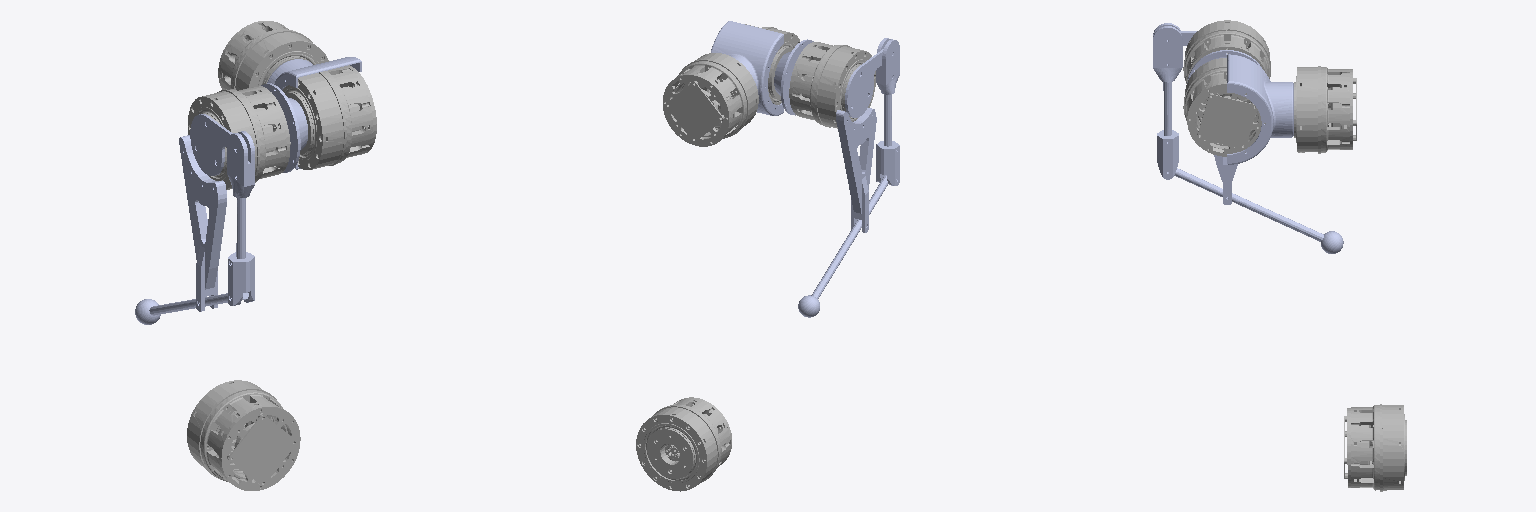
URDF robot description (titanleg):
<?xml version="1.0" encoding="utf-8"?>
<robot
  name="titanleg" xmlns:xacro="http://ros.org/wiki/xacro">
  <link name="world" />
  <link
    name="base_link_stand">
    <inertial>
      <origin
        xyz="2.21389571031239E-06 0.0495282516972576 8.39857004455852E-05"
        rpy="0 0 0" />
      <mass
        value="0.459454762759501" />
      <inertia
        ixx="0.000423377170076193"
        ixy="2.8536168918093E-09"
        ixz="1.66725551719757E-07"
        iyy="0.000785413648057675"
        iyz="6.36782987510134E-07"
        izz="0.000423371017574567" />
    </inertial>
    <visual>
      <origin
        xyz="0 0 0"
        rpy="0 0 0" />
      <geometry>
        <mesh
          filename="package://titanleg_gazebo/meshes/Slider_design/hip_act.STL" />
      </geometry>
      <material
        name="">
        <color
          rgba="0.752941176470588 0.752941176470588 0.752941176470588 1" />
      </material>
    </visual>
    <collision>
      <origin
        xyz="0 0 0"
        rpy="0 0 0" />
      <geometry>
        <mesh
          filename="package://titanleg_gazebo/meshes/Slider_design/hip_act.STL" />
      </geometry>
    </collision>
  </link>
   <joint name="dummy_joint" type="fixed">
     <parent link="world"/>
     <child link="base_link_stand"/>
   </joint>
  <!-- <link
    name="base_link_stand">
    <inertial>
      <origin
        xyz="6.10622663543836E-16 0.000186556359450196 0.177272743445134"
        rpy="0 0 0" />
      <mass
        value="2.59347516998776" />
      <inertia
        ixx="0.122430377729961"
        ixy="-6.64879419839934E-17"
        ixz="-1.79469805425288E-16"
        iyy="0.183325511805914"
        iyz="-0.000156144898123056"
        izz="0.073945978938047" />
    </inertial>
    <visual>
      <origin
        xyz="0 0 0"
        rpy="0 0 0" />
      <geometry>
        <mesh
          filename="package://titanleg_gazebo/meshes/slider_design/base_link_stand.STL" />
      </geometry>
      <material
        name="">
        <color
          rgba="0.792156862745098 0.819607843137255 0.933333333333333 1" />
      </material>
    </visual>
    <collision>
      <origin
        xyz="0 0 0"
        rpy="0 0 0" />
      <geometry>
        <mesh
          filename="package://titanleg_gazebo/meshes/slider_design/base_link_stand.STL" />
      </geometry>
    </collision>
  </link> -->
  <link
    name="hip_act">
    <inertial>
      <origin
        xyz="3.32114702053521E-06 -0.0315283228576752 0.499999356474945"
        rpy="0 0 0" />
      <mass
        value="0.459454763928287" />
      <inertia
        ixx="0.000423368997531344"
        ixy="3.15207899133932E-09"
        ixz="1.66528842531295E-07"
        iyy="0.000785414768163331"
        iyz="3.20271247011331E-09"
        izz="0.000423378070299278" />
    </inertial>
    <visual>
      <origin
        xyz="0 0 0"
        rpy="0 0 0" />
      <geometry>
        <mesh
          filename="package://titanleg_gazebo/meshes/slider_design/hip_act.STL" />
      </geometry>
      <material
        name="">
        <color
          rgba="0.752941176470588 0.752941176470588 0.752941176470588 1" />
      </material>
    </visual>
    <collision>
      <origin
        xyz="0 0 0"
        rpy="0 0 0" />
      <geometry>
        <mesh
          filename="package://titanleg_gazebo/meshes/slider_design/hip_act.STL" />
      </geometry>
    </collision>
  </link>
  <joint
    name="stand_hip"
    type="fixed">
    <origin
      xyz="0 0 0"
      rpy="0 0 0" />
    <parent
      link="base_link_stand" />
    <child
      link="hip_act" />
    <axis
      xyz="0 0 0" />
  </joint>
  <link
    name="c_bracket">
    <inertial>
      <origin
        xyz="1.29531010331363E-05 -0.0938839573426781 0.499993336202208"
        rpy="0 0 0" />
      <mass
        value="0.1941398277098" />
      <inertia
        ixx="0.000246157573305319"
        ixy="3.72184232659441E-08"
        ixz="1.78676211476882E-09"
        iyy="0.000261155018400834"
        iyz="-1.04515996147018E-08"
        izz="0.000187909216337472" />
    </inertial>
    <visual>
      <origin
        xyz="0 0 0"
        rpy="0 0 0" />
      <geometry>
        <mesh
          filename="package://titanleg_gazebo/meshes/slider_design/c_bracket.STL" />
      </geometry>
      <material
        name="">
        <color
          rgba="0.792156862745098 0.819607843137255 0.933333333333333 1" />
      </material>
    </visual>
    <collision>
      <origin
        xyz="0 0 0"
        rpy="0 0 0" />
      <geometry>
        <mesh
          filename="package://titanleg_gazebo/meshes/slider_design/c_bracket.STL" />
      </geometry>
    </collision>
  </link>
  <joint
    name="hip_a_c_b"
    type="revolute">
    <origin
      xyz="0 0 0"
      rpy="0 0 0" />
    <parent
      link="hip_act" />
    <child
      link="c_bracket" />
    <axis
      xyz="0 -1 0" />
    <limit
      lower="0"
      upper="0"
      effort="0"
      velocity="0" />
  </joint>
  <link
    name="knee_act">
    <inertial>
      <origin
        xyz="-0.0105283228433629 -0.155996467737714 0.499999801595569"
        rpy="0 0 0" />
      <mass
        value="0.459454763368948" />
      <inertia
        ixx="0.000785414768124536"
        ixy="-1.20110195093395E-09"
        ixz="-4.18264847211513E-09"
        iyy="0.000423231039952221"
        iyz="8.59167594152018E-08"
        izz="0.000423516027817846" />
    </inertial>
    <visual>
      <origin
        xyz="0 0 0"
        rpy="0 0 0" />
      <geometry>
        <mesh
          filename="package://titanleg_gazebo/meshes/slider_design/knee_act.STL" />
      </geometry>
      <material
        name="">
        <color
          rgba="0.752941176470588 0.752941176470588 0.752941176470588 1" />
      </material>
    </visual>
    <collision>
      <origin
        xyz="0 0 0"
        rpy="0 0 0" />
      <geometry>
        <mesh
          filename="package://titanleg_gazebo/meshes/slider_design/knee_act.STL" />
      </geometry>
    </collision>
  </link>
  <joint
    name="c_knee"
    type="fixed">
    <origin
      xyz="0 0 0"
      rpy="0 0 0" />
    <parent
      link="c_bracket" />
    <child
      link="knee_act" />
    <axis
      xyz="0 0 0" />
    <limit
      lower="0"
      upper="0"
      effort="0"
      velocity="0" />
  </joint>
  <link
    name="connecter">
    <inertial>
      <origin
        xyz="-0.0627092553303077 -0.155999999999995 0.500000000000004"
        rpy="0 0 0" />
      <mass
        value="0.136163779993279" />
      <inertia
        ixx="0.000121813380866596"
        ixy="-1.11126012869145E-19"
        ixz="1.58157595894236E-20"
        iyy="6.99270541952128E-05"
        iyz="-6.81519276561268E-20"
        izz="6.99270541952126E-05" />
    </inertial>
    <visual>
      <origin
        xyz="0 0 0"
        rpy="0 0 0" />
      <geometry>
        <mesh
          filename="package://titanleg_gazebo/meshes/slider_design/connecter.STL" />
      </geometry>
      <material
        name="">
        <color
          rgba="0.792156862745098 0.819607843137255 0.933333333333333 1" />
      </material>
    </visual>
    <collision>
      <origin
        xyz="0 0 0"
        rpy="0 0 0" />
      <geometry>
        <mesh
          filename="package://titanleg_gazebo/meshes/slider_design/connecter.STL" />
      </geometry>
    </collision>
  </link>
  <joint
    name="knact_con"
    type="revolute">
    <origin
      xyz="0 0 0"
      rpy="0 0 0" />
    <parent
      link="knee_act" />
    <child
      link="connecter" />
    <axis
      xyz="-1 0 0" />
    <limit
      lower="0"
      upper="0"
      effort="0"
      velocity="0" />
  </joint>
  <link
    name="slide_act">
    <inertial>
      <origin
        xyz="-0.128528322842186 -0.155997781822786 0.499997296994449"
        rpy="0 0 0" />
      <mass
        value="0.45945476329286" />
      <inertia
        ixx="0.000785414768049983"
        ixy="-3.14528553173294E-09"
        ixz="-3.07860027929629E-09"
        iyy="0.00042337716722205"
        iyz="1.66719355801496E-07"
        izz="0.000423369900477097" />
    </inertial>
    <visual>
      <origin
        xyz="0 0 0"
        rpy="0 0 0" />
      <geometry>
        <mesh
          filename="package://titanleg_gazebo/meshes/slider_design/slide_act.STL" />
      </geometry>
      <material
        name="">
        <color
          rgba="0.752941176470588 0.752941176470588 0.752941176470588 1" />
      </material>
    </visual>
    <collision>
      <origin
        xyz="0 0 0"
        rpy="0 0 0" />
      <geometry>
        <mesh
          filename="package://titanleg_gazebo/meshes/slider_design/slide_act.STL" />
      </geometry>
    </collision>
  </link>
  <joint
    name="con_slact"
    type="fixed">
    <origin
      xyz="0 0 0"
      rpy="0 0 0" />
    <parent
      link="connecter" />
    <child
      link="slide_act" />
    <axis
      xyz="0 0 0" />
  </joint>
  <link
    name="slider_1">
    <inertial>
      <origin
        xyz="-0.165994134887291 -0.168670165667458 0.506409800876571"
        rpy="0 0 0" />
      <mass
        value="0.0227075461559264" />
      <inertia
        ixx="2.96121867175513E-05"
        ixy="-1.68744202738817E-09"
        ixz="8.53672135801245E-10"
        iyy="9.4534331925605E-06"
        iyz="6.03941429902899E-06"
        izz="2.02192166309363E-05" />
    </inertial>
    <visual>
      <origin
        xyz="0 0 0"
        rpy="0 0 0" />
      <geometry>
        <mesh
          filename="package://titanleg_gazebo/meshes/slider_design/slider_1.STL" />
      </geometry>
      <material
        name="">
        <color
          rgba="0.792156862745098 0.819607843137255 0.933333333333333 1" />
      </material>
    </visual>
    <collision>
      <origin
        xyz="0 0 0"
        rpy="0 0 0" />
      <geometry>
        <mesh
          filename="package://titanleg_gazebo/meshes/slider_design/slider_1.STL" />
      </geometry>
    </collision>
  </link>
  <joint
    name="act_sl1"
    type="revolute">
    <origin
      xyz="0 0 0"
      rpy="0 0 0" />
    <parent
      link="slide_act" />
    <child
      link="slider_1" />
    <axis
      xyz="-1 0 0" />
    <limit
      lower="0"
      upper="0"
      effort="0"
      velocity="0" />
  </joint>
  <link
    name="slider_2">
    <inertial>
      <origin
        xyz="-0.165987300392327 -0.236011570879544 0.50693946183179"
        rpy="0 0 0" />
      <mass
        value="0.0349242700670582" />
      <inertia
        ixx="1.85733821282022E-05"
        ixy="-1.80568328873661E-11"
        ixz="-2.30085352135554E-09"
        iyy="1.50315418382489E-05"
        iyz="1.62362253121418E-08"
        izz="5.08895980356463E-06" />
    </inertial>
    <visual>
      <origin
        xyz="0 0 0"
        rpy="0 0 0" />
      <geometry>
        <mesh
          filename="package://titanleg_gazebo/meshes/slider_design/slider_2.STL" />
      </geometry>
      <material
        name="">
        <color
          rgba="0.792156862745098 0.819607843137255 0.933333333333333 1" />
      </material>
    </visual>
    <collision>
      <origin
        xyz="0 0 0"
        rpy="0 0 0" />
      <geometry>
        <mesh
          filename="package://titanleg_gazebo/meshes/slider_design/slider_2.STL" />
      </geometry>
    </collision>
  </link>
  <joint
    name="sl1_sl2"
    type="revolute">
    <origin
      xyz="0 0 0"
      rpy="0 0 0" />
    <parent
      link="slider_1" />
    <child
      link="slider_2" />
    <axis
      xyz="1 0 0" />
    <limit
      lower="0"
      upper="0"
      effort="0"
      velocity="0" />
  </joint>
  <link
    name="driver_rod">
    <inertial>
      <origin
        xyz="-0.166 -0.235896141474479 0.436652535858943"
        rpy="0 0 0" />
      <mass
        value="0.0124305545034589" />
      <inertia
        ixx="1.5037275756186E-05"
        ixy="-5.89896962782277E-13"
        ixz="5.60965314368876E-13"
        iyy="1.50353666083867E-05"
        iyz="2.4337046111764E-08"
        izz="2.06465136266972E-07" />
    </inertial>
    <visual>
      <origin
        xyz="0 0 0"
        rpy="0 0 0" />
      <geometry>
        <mesh
          filename="package://titanleg_gazebo/meshes/slider_design/driver_rod.STL" />
      </geometry>
      <material
        name="">
        <color
          rgba="0.792156862745098 0.819607843137255 0.933333333333333 1" />
      </material>
    </visual>
    <collision>
      <origin
        xyz="0 0 0"
        rpy="0 0 0" />
      <geometry>
        <mesh
          filename="package://titanleg_gazebo/meshes/slider_design/driver_rod.STL" />
      </geometry>
    </collision>
  </link>
  <joint
    name="sl2_rod"
    type="fixed">
    <origin
      xyz="0 0 0"
      rpy="0 0 0" />
    <parent
      link="slider_2" />
    <child
      link="driver_rod" />
    <axis
      xyz="0 0 0" />
  </joint>
  <link
    name="slider_3">
    <inertial>
      <origin
        xyz="-0.165968905240866 -0.235769905529503 0.359735993431928"
        rpy="0 0 0" />
      <mass
        value="0.0327017150775501" />
      <inertia
        ixx="9.2770972112113E-06"
        ixy="-2.14206940806661E-12"
        ixz="1.32397826471156E-09"
        iyy="9.93886648494575E-06"
        iyz="9.96896051989336E-09"
        izz="3.86478623890975E-06" />
    </inertial>
    <visual>
      <origin
        xyz="0 0 0"
        rpy="0 0 0" />
      <geometry>
        <mesh
          filename="package://titanleg_gazebo/meshes/slider_design/slider_3.STL" />
      </geometry>
      <material
        name="">
        <color
          rgba="0.792156862745098 0.819607843137255 0.933333333333333 1" />
      </material>
    </visual>
    <collision>
      <origin
        xyz="0 0 0"
        rpy="0 0 0" />
      <geometry>
        <mesh
          filename="package://titanleg_gazebo/meshes/slider_design/slider_3.STL" />
      </geometry>
    </collision>
  </link>
  <joint
    name="rod_sl3"
    type="fixed">
    <origin
      xyz="0 0 0"
      rpy="0 0 0" />
    <parent
      link="driver_rod" />
    <child
      link="slider_3" />
    <axis
      xyz="0 0 0" />
  </joint>
  <link
    name="main_rod">
    <inertial>
      <origin
        xyz="-0.166000000381638 -0.0872977391304248 0.261603056632975"
        rpy="0 0 0" />
      <mass
        value="0.03834406116007" />
      <inertia
        ixx="0.000124089295700755"
        ixy="-1.25934739968129E-12"
        ixz="4.84609440109473E-14"
        iyy="2.63538779617982E-05"
        iyz="4.89413548299659E-05"
        izz="9.95797372498691E-05" />
    </inertial>
    <visual>
      <origin
        xyz="0 0 0"
        rpy="0 0 0" />
      <geometry>
        <mesh
          filename="package://titanleg_gazebo/meshes/slider_design/main_rod.STL" />
      </geometry>
      <material
        name="">
        <color
          rgba="0.792156862745098 0.819607843137255 0.933333333333333 1" />
      </material>
    </visual>
    <collision>
      <origin
        xyz="0 0 0"
        rpy="0 0 0" />
      <geometry>
        <mesh
          filename="package://titanleg_gazebo/meshes/slider_design/main_rod.STL" />
      </geometry>
    </collision>
  </link>
  <joint
    name="sl3_mainrod"
    type="revolute">
    <origin
      xyz="0 0 0"
      rpy="0 0 0" />
    <parent
      link="slider_3" />
    <child
      link="main_rod" />
    <axis
      xyz="1 0 0" />
    <limit
      lower="0"
      upper="0"
      effort="0"
      velocity="0" />
  </joint>
  <link
    name="front_leg">
    <inertial>
      <origin
        xyz="-0.166327568109669 -0.150616282403251 0.400833445478485"
        rpy="0 0 0" />
      <mass
        value="0.0933588484666221" />
      <inertia
        ixx="0.000261206736608851"
        ixy="-4.04589541357779E-08"
        ixz="-5.26917929784811E-07"
        iyy="0.000221587958535765"
        iyz="-2.73142947798179E-05"
        izz="4.30338297696853E-05" />
    </inertial>
    <visual>
      <origin
        xyz="0 0 0"
        rpy="0 0 0" />
      <geometry>
        <mesh
          filename="package://titanleg_gazebo/meshes/slider_design/front_leg.STL" />
      </geometry>
      <material
        name="">
        <color
          rgba="0.792156862745098 0.819607843137255 0.933333333333333 1" />
      </material>
    </visual>
    <collision>
      <origin
        xyz="0 0 0"
        rpy="0 0 0" />
      <geometry>
        <mesh
          filename="package://titanleg_gazebo/meshes/slider_design/front_leg.STL" />
      </geometry>
    </collision>
  </link>
  <joint
    name="sact_leg"
    type="fixed">
    <origin
      xyz="0 0 0"
      rpy="0 0 0" />
    <parent
      link="slide_act" />
    <child
      link="front_leg" />
    <axis
      xyz="0 0 0" />
  </joint>
  <link
    name="mainrod1">
    <inertial>
      <origin
        xyz="-0.166000000381639 -0.0872977391304275 0.261603056632973"
        rpy="0 0 0" />
      <mass
        value="0.0383440611600699" />
      <inertia
        ixx="0.000124089295700754"
        ixy="-1.25934739001152E-12"
        ixz="4.84609376955384E-14"
        iyy="2.6353877961798E-05"
        iyz="4.89413548299656E-05"
        izz="9.95797372498684E-05" />
    </inertial>
    <visual>
      <origin
        xyz="0 0 0"
        rpy="0 0 0" />
      <geometry>
        <mesh
          filename="package://titanleg_gazebo/meshes/slider_design/mainrod1.STL" />
      </geometry>
      <material
        name="">
        <color
          rgba="0.792156862745098 0.819607843137255 0.933333333333333 1" />
      </material>
    </visual>
    <collision>
      <origin
        xyz="0 0 0"
        rpy="0 0 0" />
      <geometry>
        <mesh
          filename="package://titanleg_gazebo/meshes/slider_design/mainrod1.STL" />
      </geometry>
    </collision>
  </link>
  <joint
    name="leg_rod"
    type="revolute">
    <origin
      xyz="0 0 0"
      rpy="0 0 0" />
    <parent
      link="front_leg" />
    <child
      link="mainrod1" />
    <axis
      xyz="0 0 0" />
    <limit
      lower="0"
      upper="0"
      effort="0"
      velocity="0" />
  </joint>
</robot>

--- What the picture shows (computed from the rendered views, not written in the file) ---
3 views of the same robot in one strip: view 1: azimuth 30°, elevation 25°; view 2: azimuth 150°, elevation 25°; view 3: azimuth 270°, elevation 25° (orthographic).
Model titanleg with 14 links and 13 joints (6 revolute, 7 fixed), rooted at world, posed every joint at zero.
Visible links, largest first — view 1: base_link_stand, knee_act, slide_act, hip_act, front_leg, slider_1, slider_2, connecter, c_bracket, slider_3, main_rod, driver_rod; view 2: base_link_stand, hip_act, slide_act, c_bracket, front_leg, slider_1, main_rod, slider_2, connecter, slider_3, knee_act; view 3: knee_act, base_link_stand, hip_act, c_bracket, slide_act, main_rod, slider_2, slider_3, front_leg.
Link boxes in pixels (x1,y1,x2,y2): base_link_stand: (187, 380, 300, 490); knee_act: (283, 65, 376, 169); slide_act: (188, 86, 290, 189); hip_act: (218, 21, 328, 90); front_leg: (179, 135, 226, 311); slider_1: (190, 114, 232, 175); slider_2: (227, 131, 254, 197); connecter: (261, 83, 307, 172); c_bracket: (267, 57, 361, 169); slider_3: (228, 252, 254, 305); main_rod: (135, 293, 248, 324); driver_rod: (236, 198, 245, 258); base_link_stand: (636, 397, 731, 491); hip_act: (663, 53, 758, 146); slide_act: (789, 42, 875, 128); c_bracket: (711, 21, 783, 115); front_leg: (836, 108, 876, 232); slider_1: (845, 49, 883, 117); main_rod: (798, 175, 887, 317); slider_2: (876, 38, 899, 94); connecter: (774, 39, 813, 115); slider_3: (876, 141, 899, 185); knee_act: (745, 24, 799, 104); knee_act: (1183, 58, 1265, 156); base_link_stand: (1344, 404, 1406, 491); hip_act: (1294, 66, 1356, 153); c_bracket: (1227, 54, 1293, 164); slide_act: (1183, 20, 1270, 83); main_rod: (1174, 168, 1343, 253); slider_2: (1153, 23, 1182, 82); slider_3: (1157, 130, 1178, 179); front_leg: (1214, 155, 1237, 204).
Size in the robot's own frame: 0.2404 by 0.3411 by 0.6208 metres.
Meshes: 13 distinct files referenced, 12 mesh visuals loaded (12 binary STL); not drawn: 1 (reference not matched to a file when rendering).